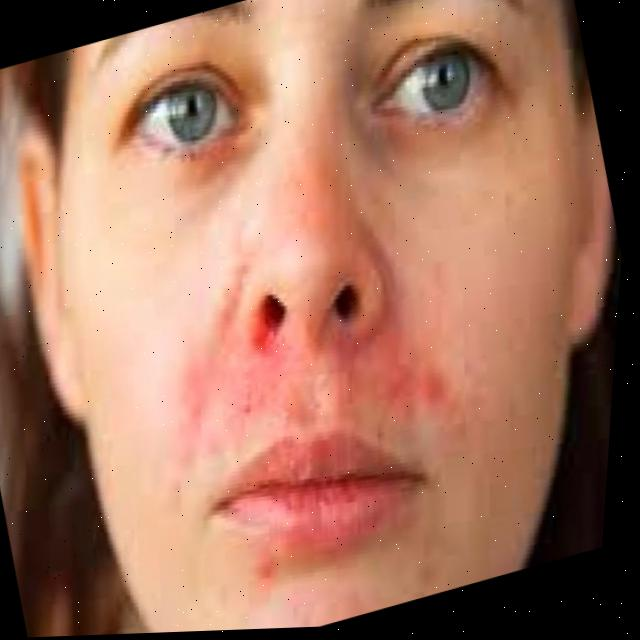Eczema: (133, 273, 475, 469)
